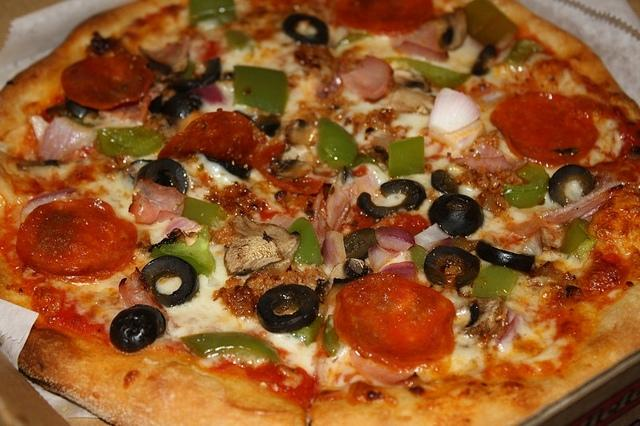bell pepper: (148, 225, 216, 277), (179, 332, 283, 362), (233, 65, 286, 117), (464, 0, 519, 50), (394, 57, 469, 86), (98, 125, 162, 157), (504, 162, 548, 208), (317, 119, 359, 166), (288, 216, 322, 265), (472, 264, 518, 297), (388, 136, 424, 177), (182, 197, 228, 228), (190, 0, 237, 30), (509, 38, 546, 66), (562, 218, 590, 254), (322, 314, 341, 358), (335, 33, 372, 47), (225, 30, 249, 50), (408, 244, 427, 268)
onion: (118, 266, 180, 332), (428, 88, 486, 150), (31, 116, 96, 160), (339, 55, 395, 104), (134, 177, 188, 212), (320, 230, 348, 277), (447, 34, 485, 68), (414, 223, 453, 251), (375, 226, 415, 252)
